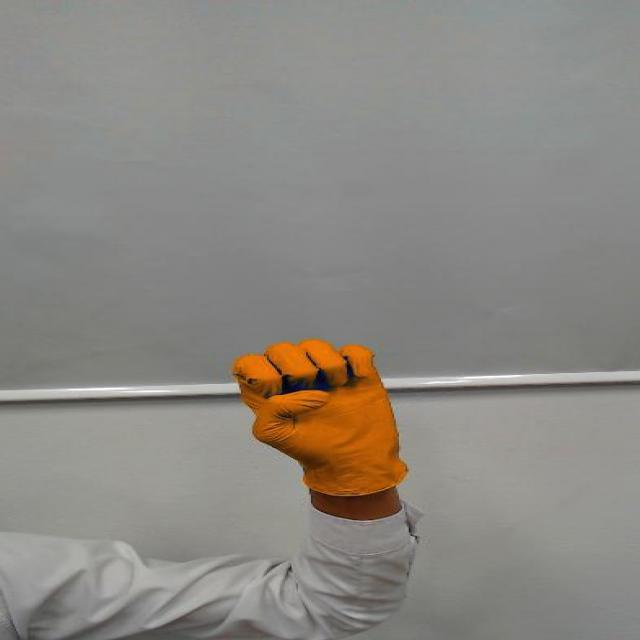Glove: (194, 339, 469, 496)
